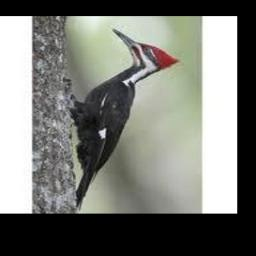Woodpecker: (69, 29, 181, 210)
